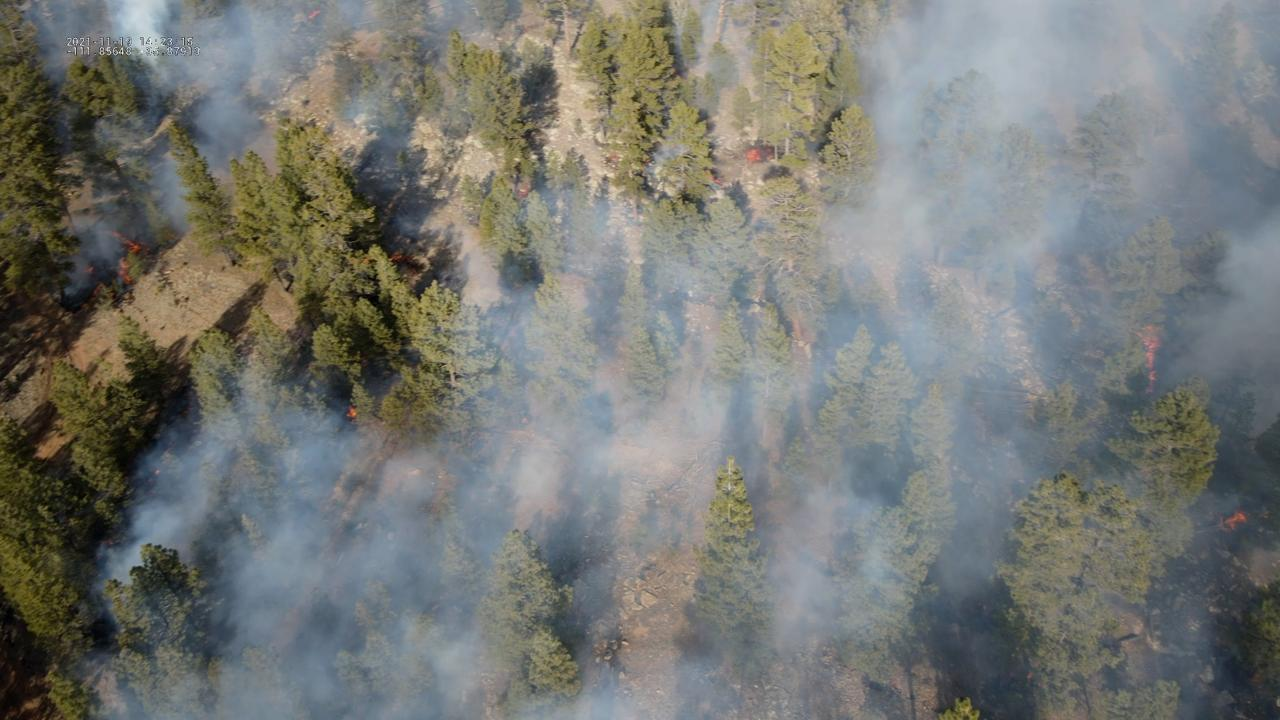fire: (100, 228, 143, 285), (1128, 323, 1160, 397), (1220, 508, 1247, 533), (743, 143, 763, 165), (382, 251, 408, 263), (518, 177, 530, 197), (705, 171, 722, 185), (344, 404, 358, 418), (79, 266, 95, 273)
smoke: (0, 0, 1280, 720)
